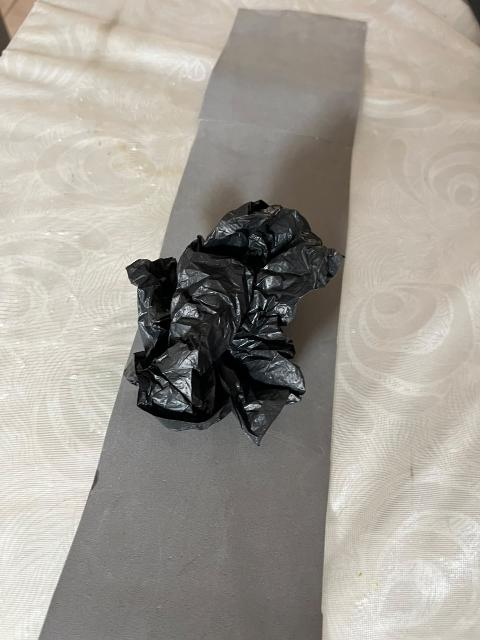LDPE: (92, 139, 395, 574)
